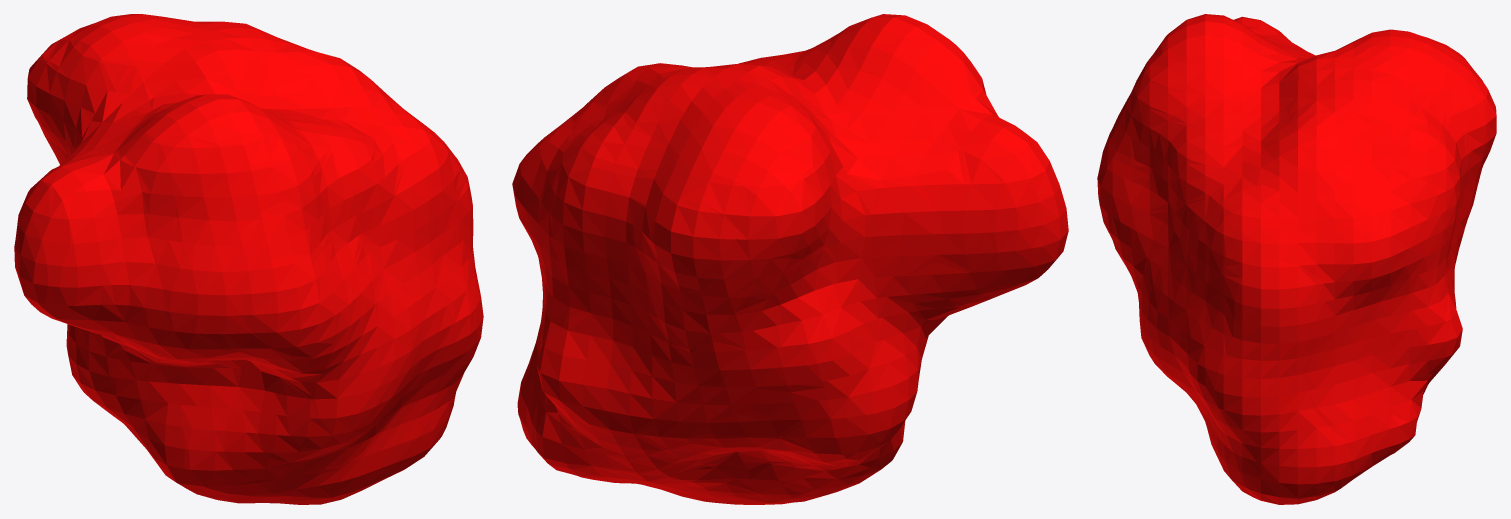
File: csdE_coarse.dae
3 renders of one model, left to right at view 1: azimuth 30°, elevation 25°; view 2: azimuth 150°, elevation 25°; view 3: azimuth 270°, elevation 25°, orthographic. The views are drawn at different scales.
Parts seen in each view (by area): view 1: csdE; view 2: csdE; view 3: csdE.
Part boxes in pixels (left/top/right/bottom): csdE: left=14, top=14, right=483, bottom=504; csdE: left=512, top=14, right=1068, bottom=504; csdE: left=1097, top=14, right=1496, bottom=504.
Bounding box in the file's own units: 44.29 × 41.54 × 37.86.
